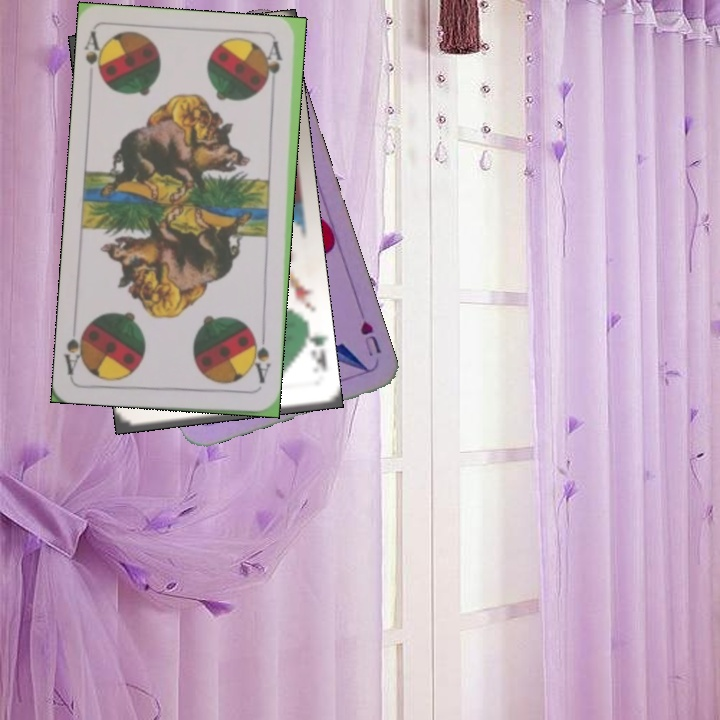GK: (300, 325, 329, 374)
HU: (356, 316, 384, 359)
SA: (81, 28, 110, 87), (246, 330, 274, 386)
